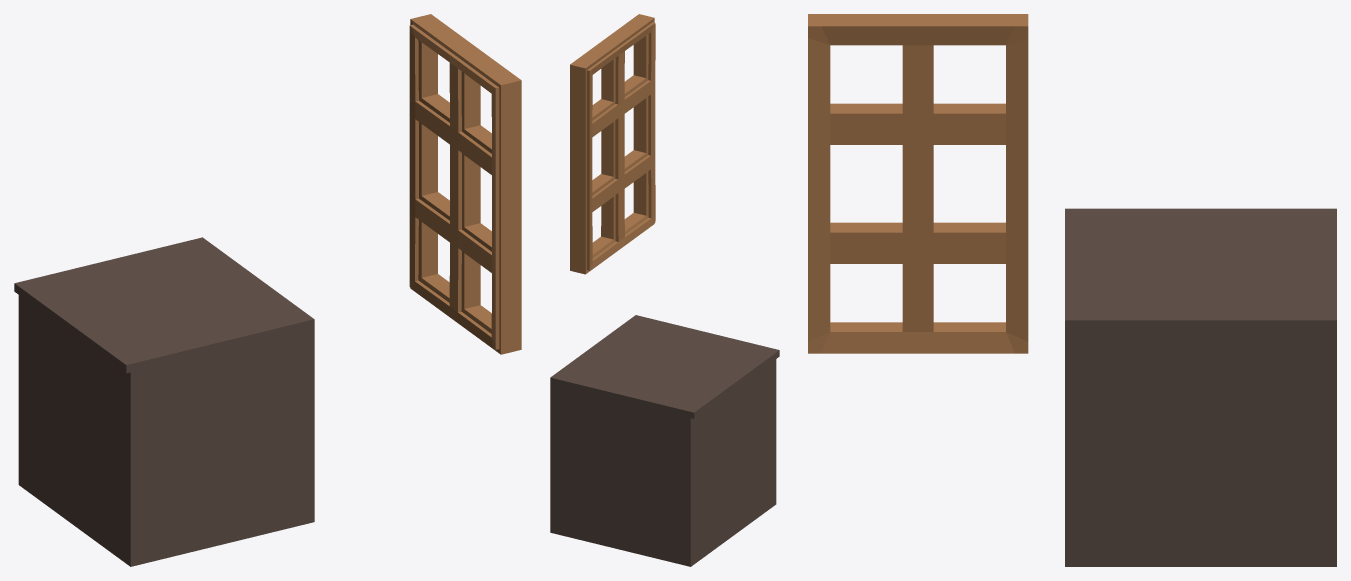
Rendered from room.fbx_static.fbx.
The picture shows the model from 3 angles, left to right: view 1: azimuth 30°, elevation 25°; view 2: azimuth 150°, elevation 25°; view 3: azimuth 270°, elevation 25°; orthographic projection. The views are drawn at different scales.
Parts seen in each view (by area): view 1: cupboard, window; view 2: cupboard, window; view 3: cupboard, window.
Boxes of the visible parts, left/top/right/bottom form: cupboard: left=14, top=237, right=314, bottom=566; window: left=409, top=14, right=521, bottom=354; cupboard: left=550, top=315, right=779, bottom=566; window: left=570, top=14, right=655, bottom=274; cupboard: left=1065, top=208, right=1336, bottom=566; window: left=808, top=14, right=1028, bottom=353.
Size of the model in its own units: 3.89 by 6.35 by 5.06.
